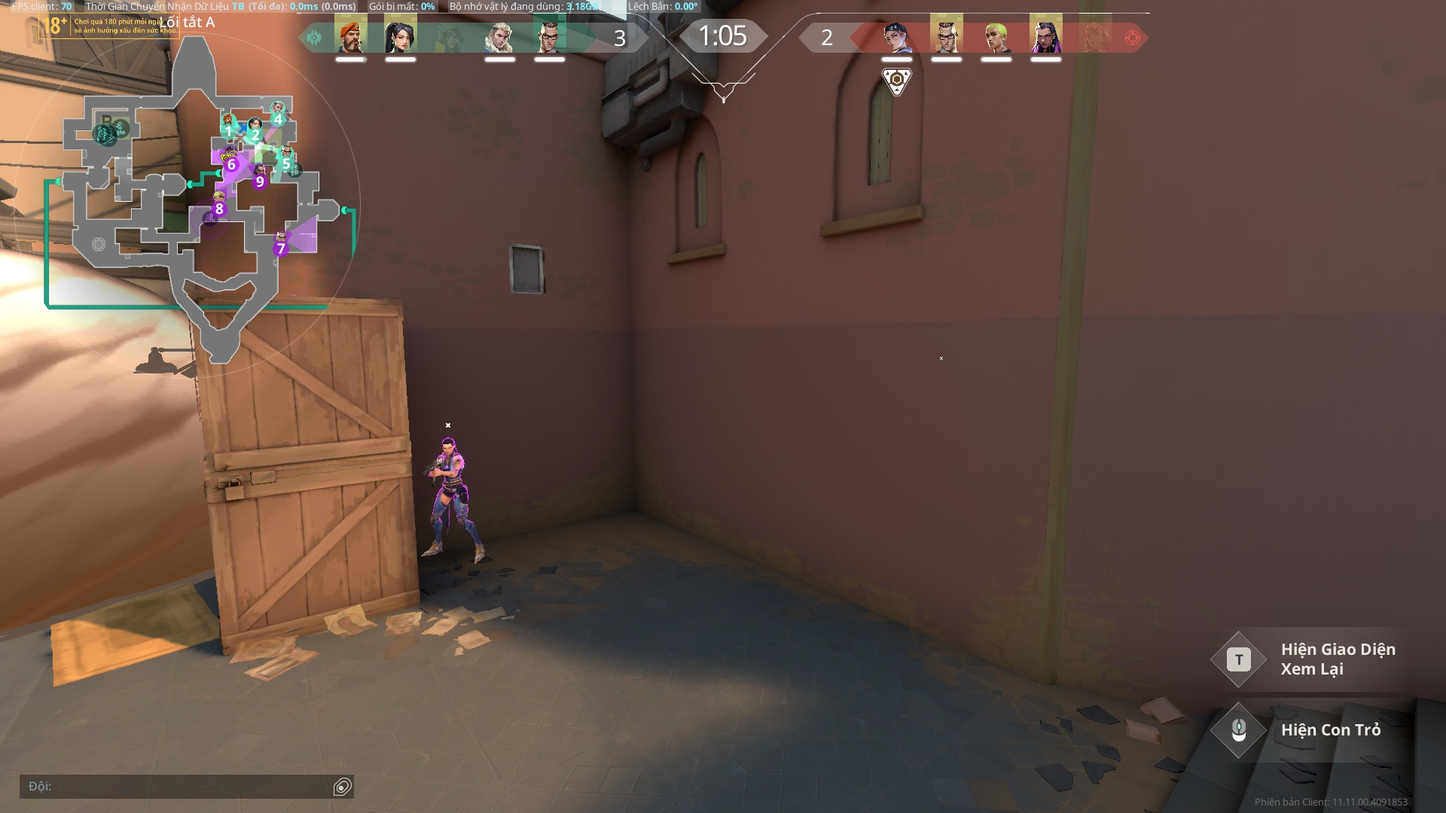body: (438, 452, 464, 482)
head: (439, 437, 458, 455)
